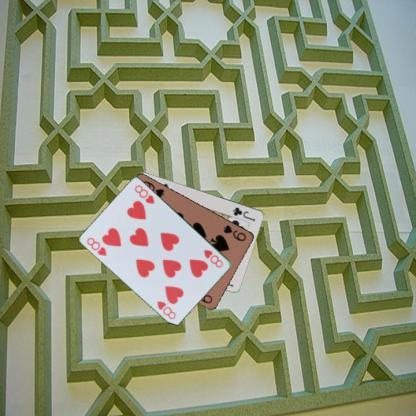8h: (84, 235, 108, 258), (201, 246, 224, 268)
9s: (221, 222, 248, 242)
Jc: (230, 204, 256, 223)
